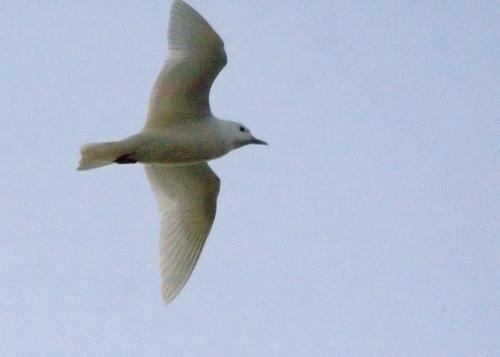bird: (75, 1, 268, 310)
